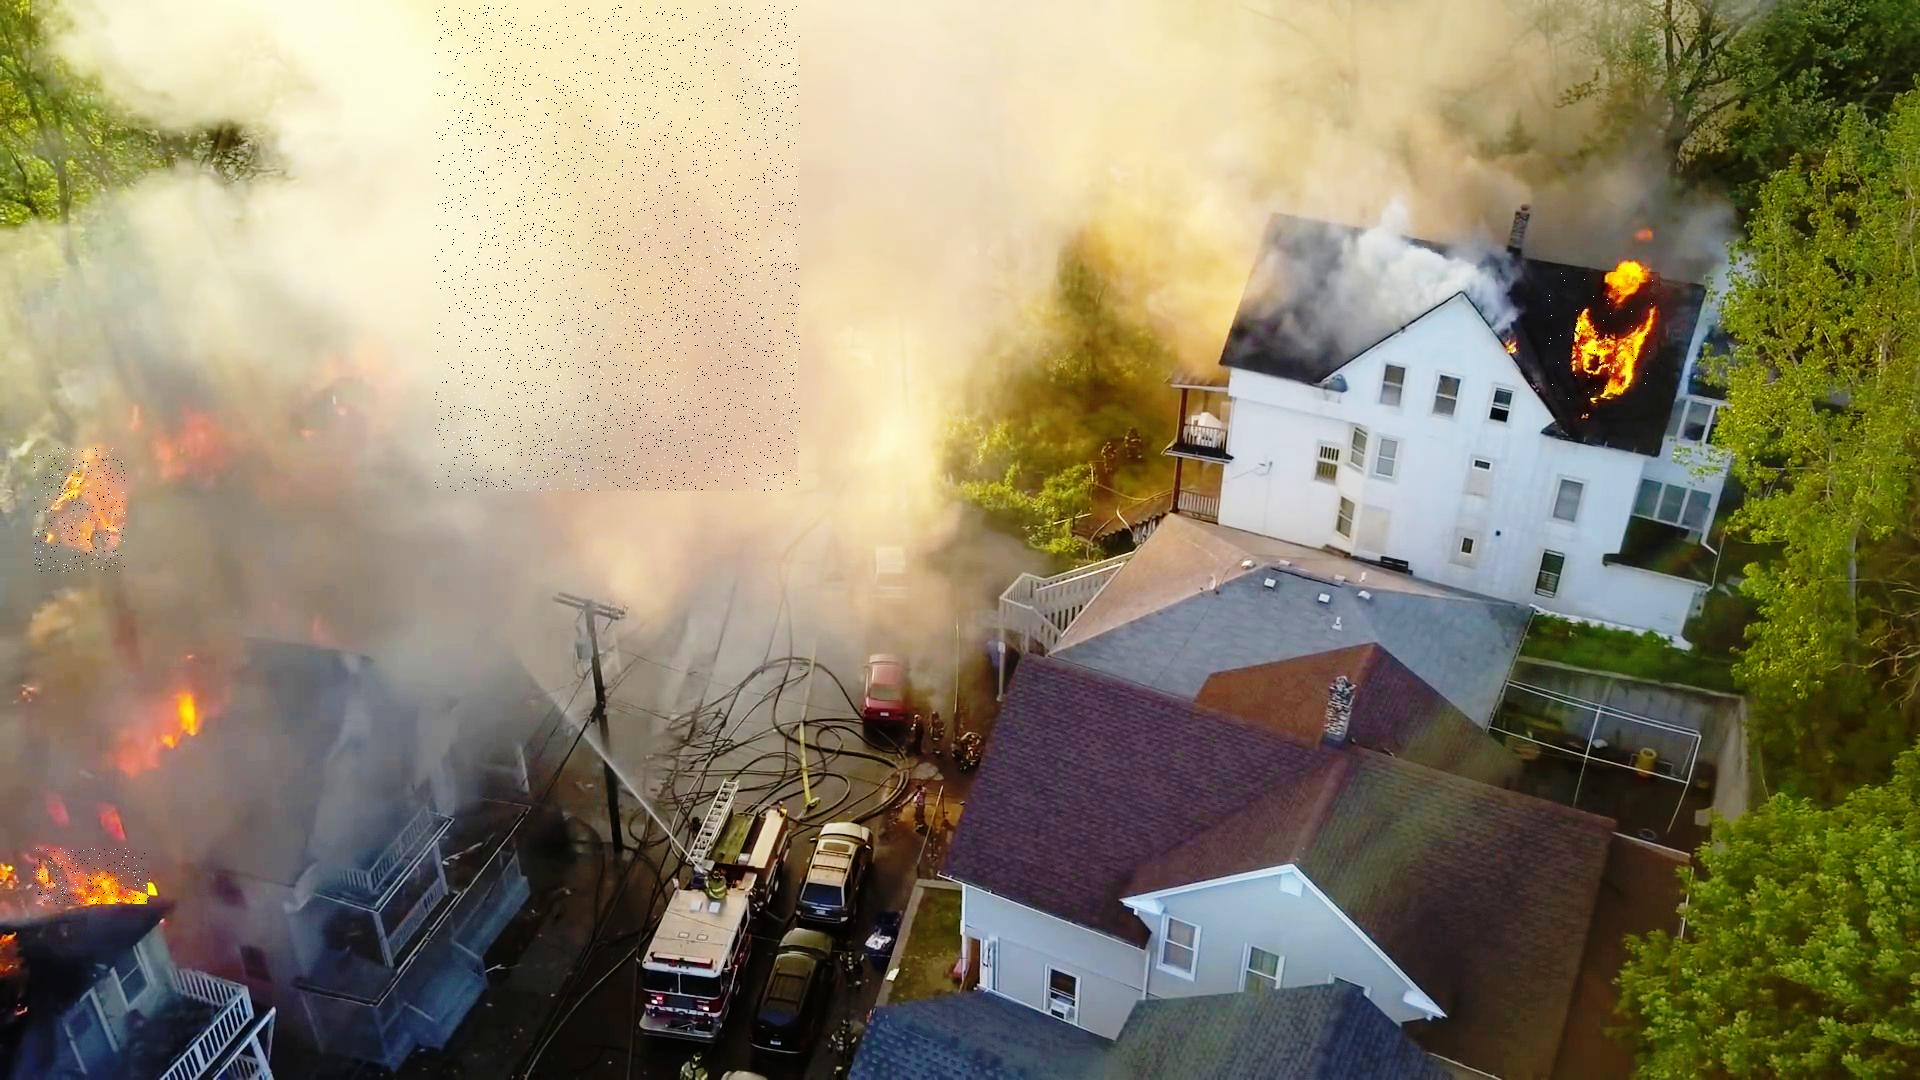fire: (1547, 273, 1663, 402), (36, 448, 125, 572), (33, 848, 150, 905)
smoke: (435, 5, 800, 491)
